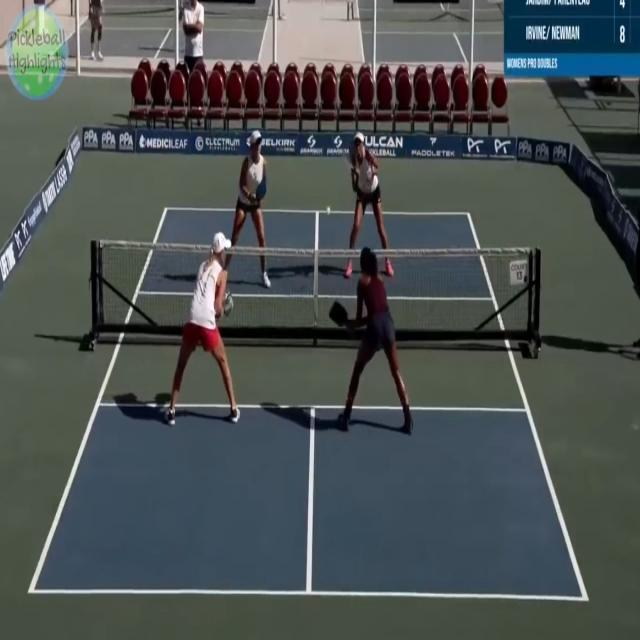Court: (31, 208, 584, 599)
ball: (324, 199, 339, 229)
